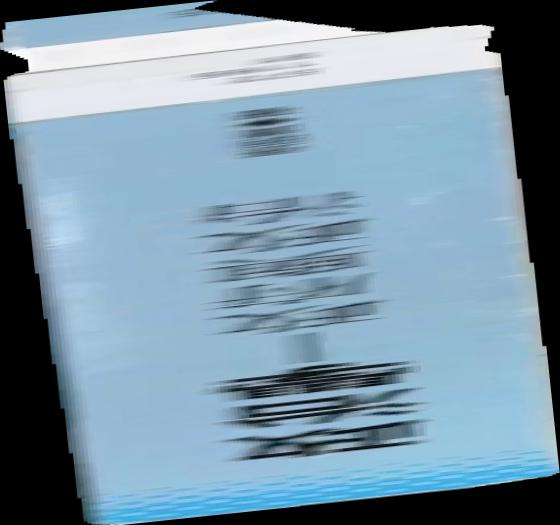reverse: (1, 1, 560, 525)
